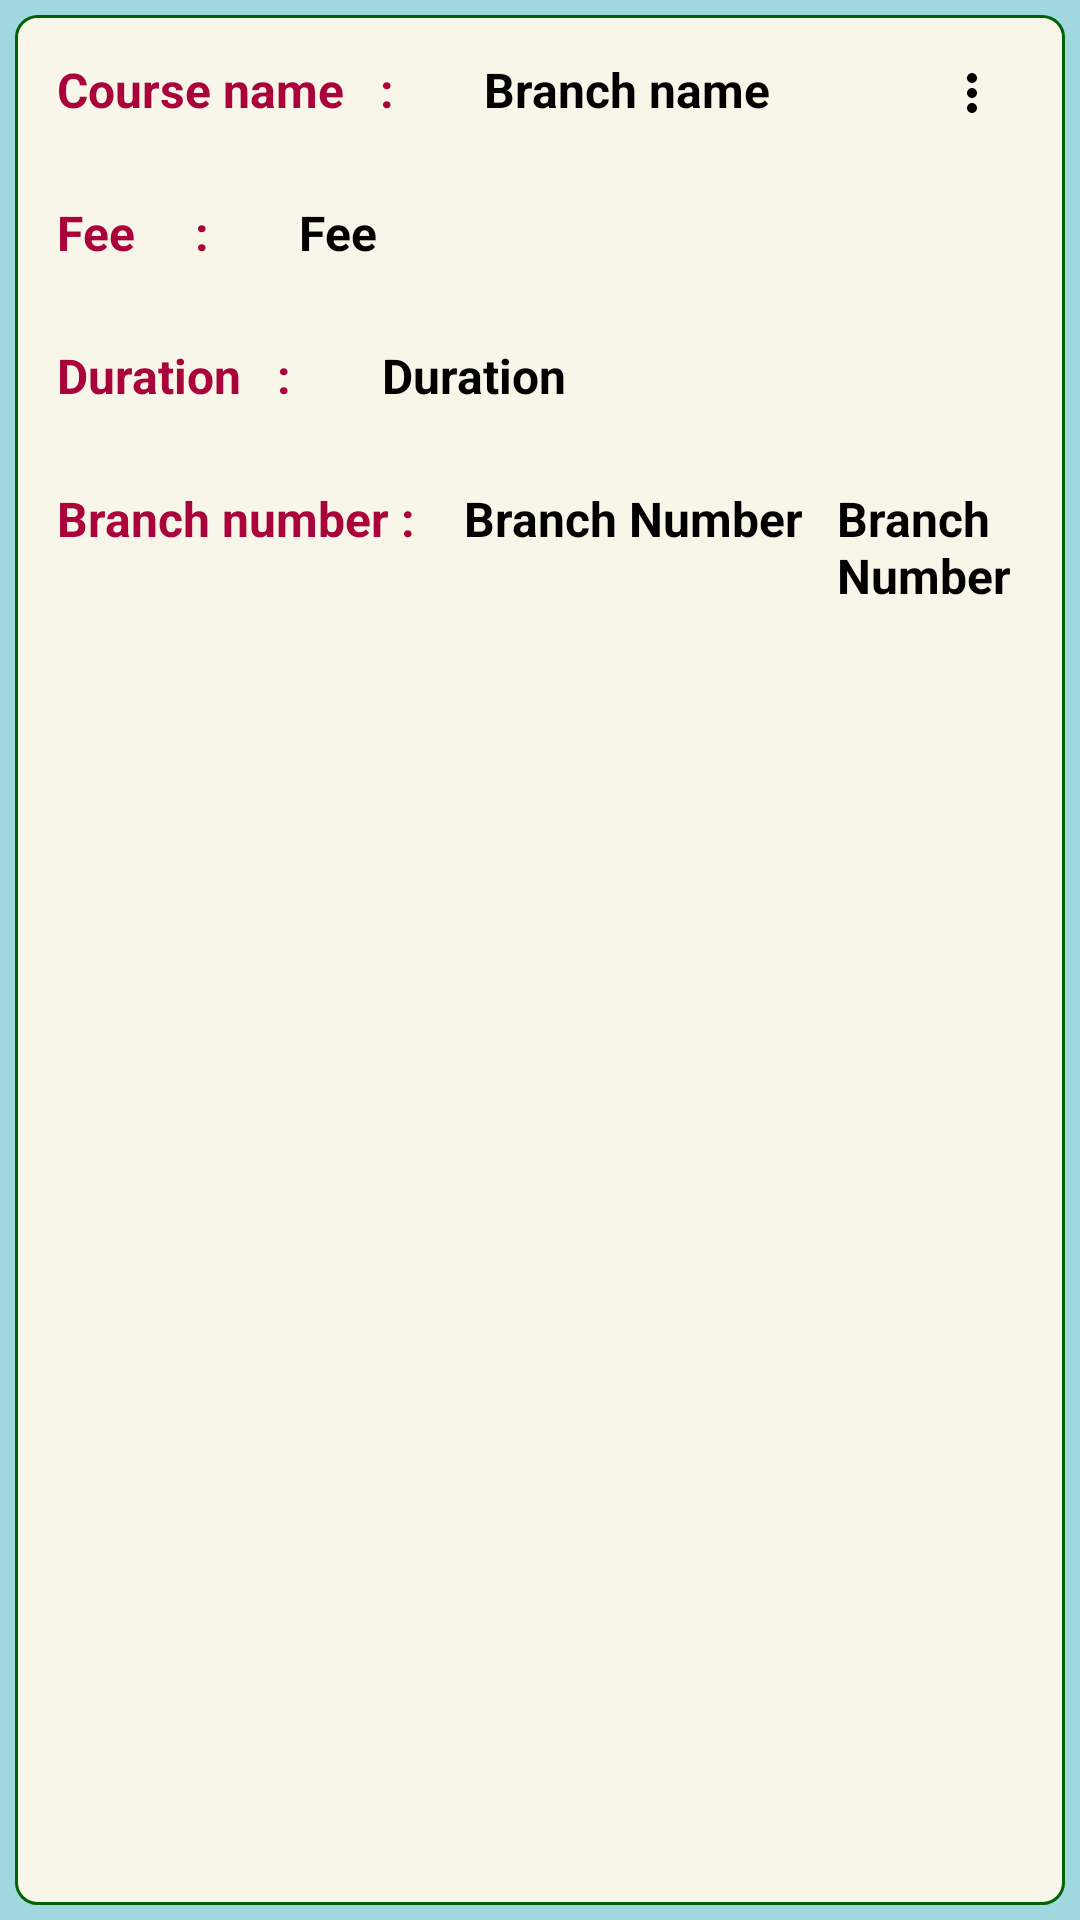

Icons on this 1080 x 1920 Android screen, each with its box as (x1, y1, x2, y2):
menu: (967, 73, 977, 113)
